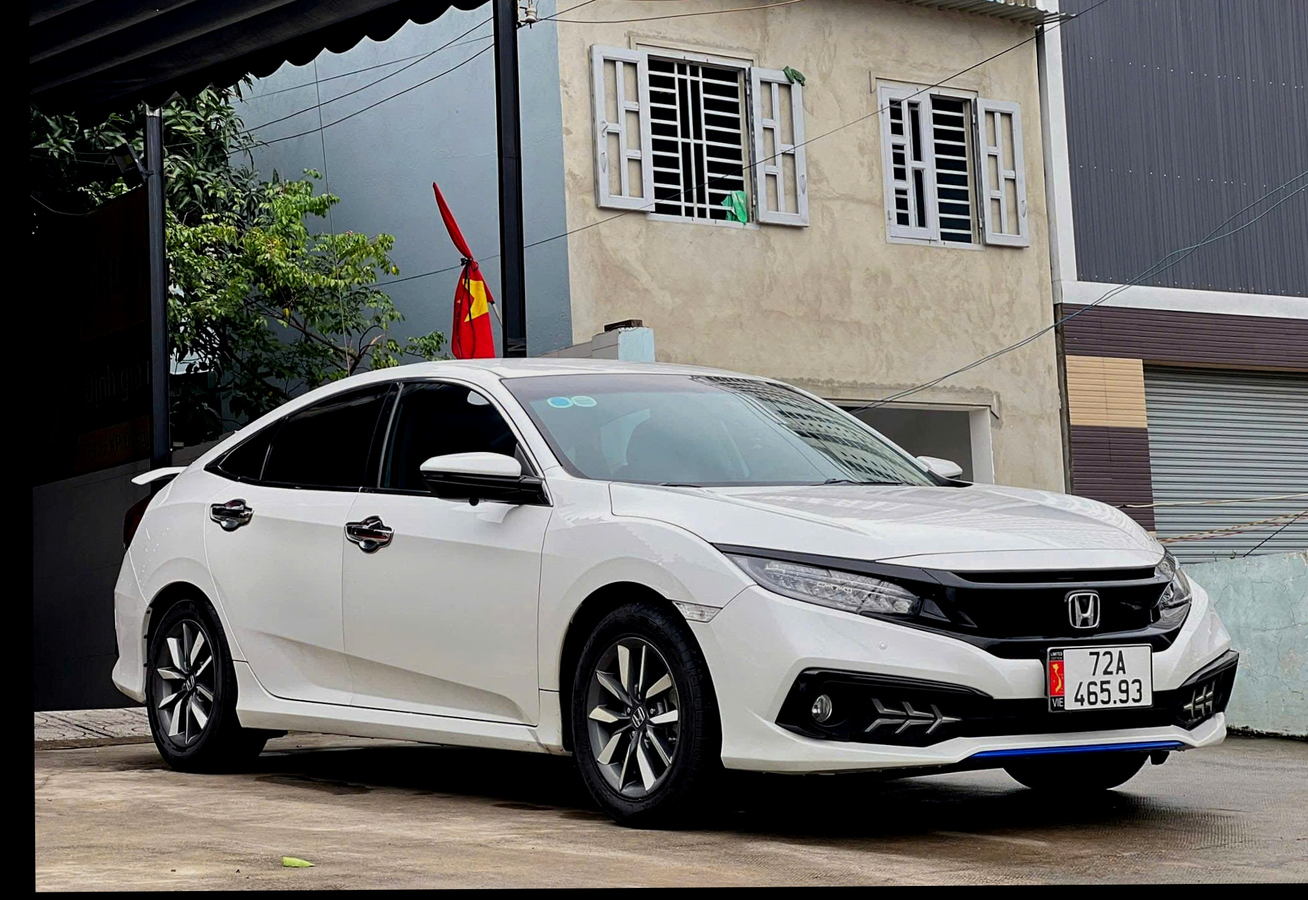Bien-so: (1031, 653, 1144, 732)
